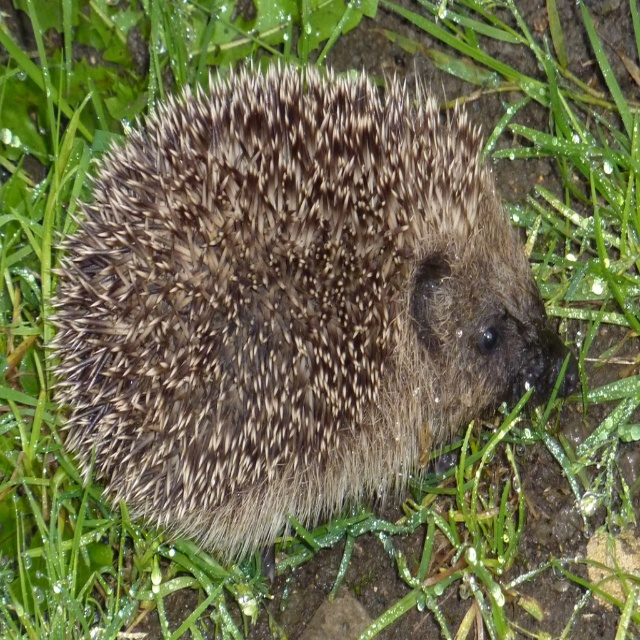Hedgehog: (41, 54, 579, 571)
